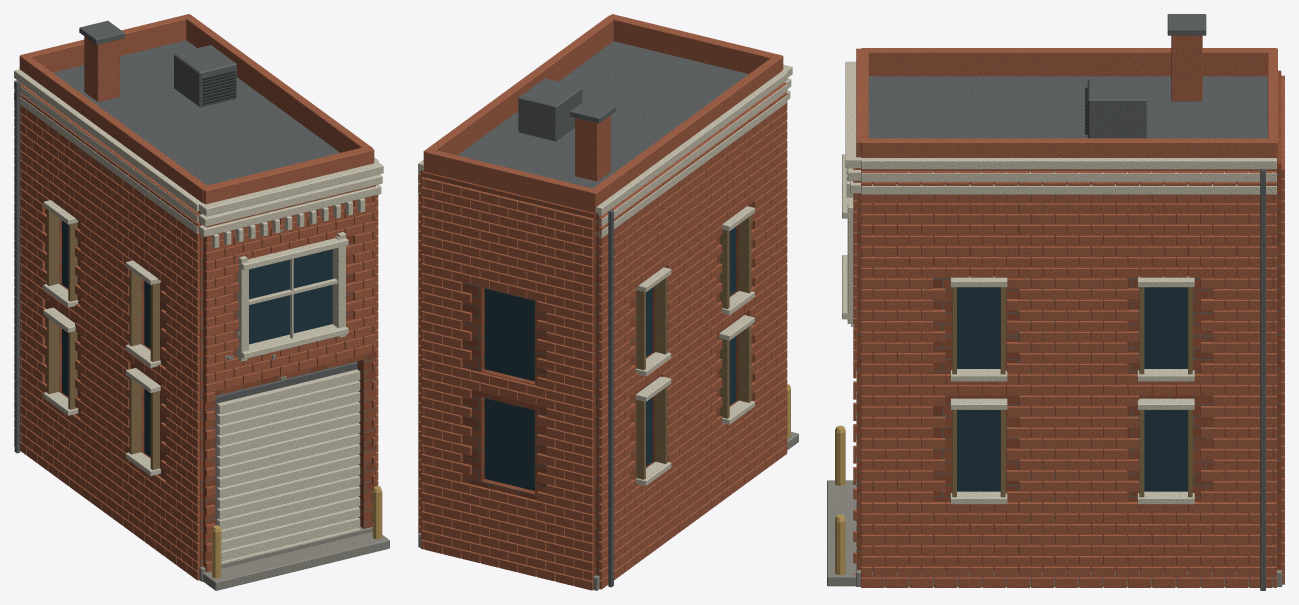
Rendered from WHSE15_lod0.glb.
The picture shows the model from 3 angles, left to right: view 1: azimuth 30°, elevation 25°; view 2: azimuth 150°, elevation 25°; view 3: azimuth 270°, elevation 25°; orthographic projection. The views are drawn at different scales.
Parts seen in each view (by area): view 1: WHSE15_LOD0; view 2: WHSE15_LOD0; view 3: WHSE15_LOD0.
Part boxes in pixels (x1,y1,x2,y2): WHSE15_LOD0: [14, 14, 389, 590]; WHSE15_LOD0: [418, 14, 798, 590]; WHSE15_LOD0: [827, 14, 1284, 590].
Bounding box in the file's own units: 3.71 × 7.85 × 6.6.
Materials: 12 (9 with a texture image).
